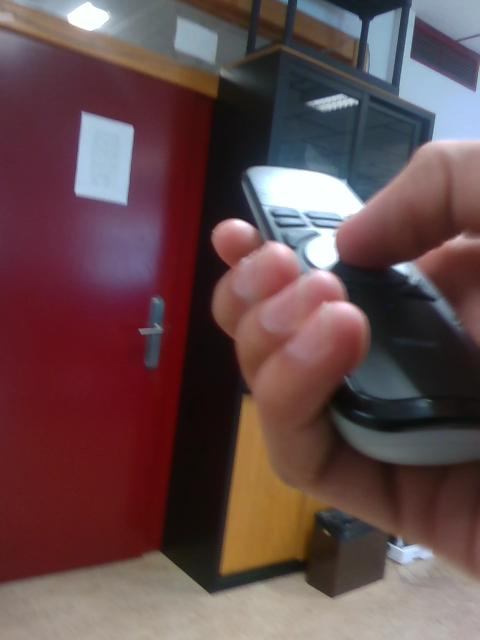door: (0, 21, 213, 586)
